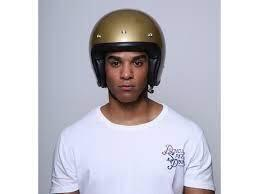helmet: (89, 8, 166, 104)
